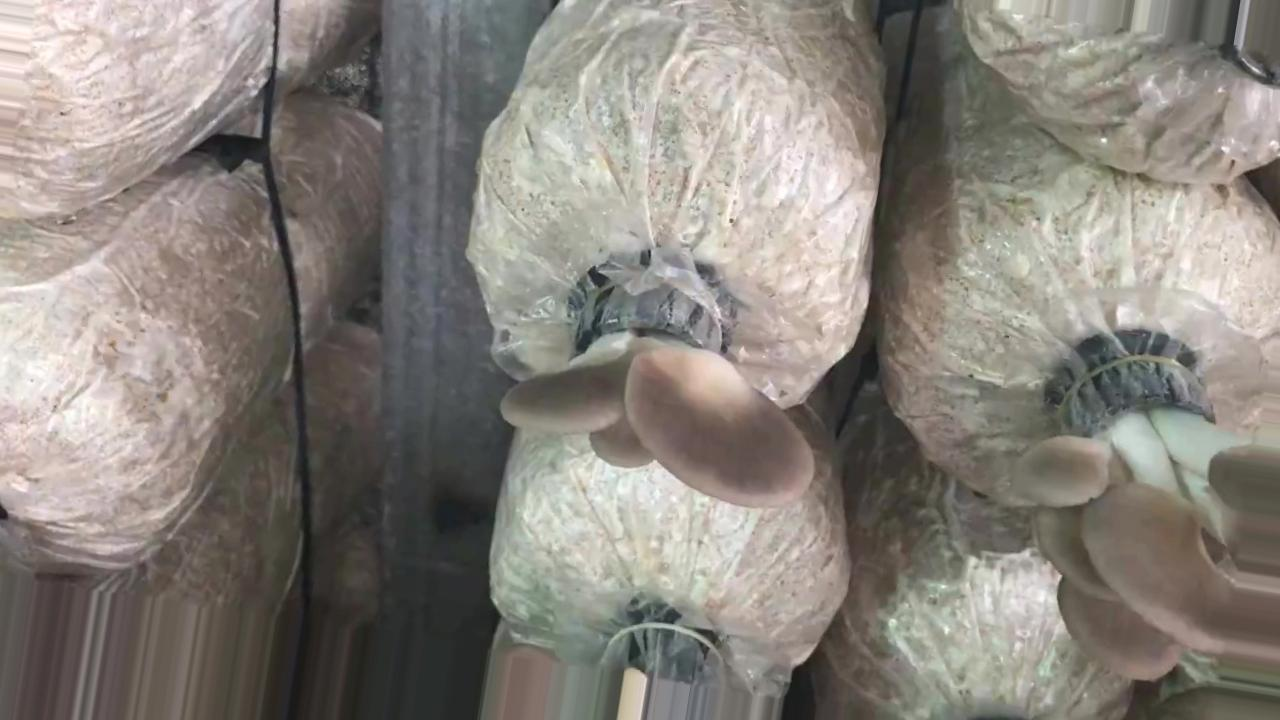nam: (1013, 330, 1280, 686), (498, 249, 817, 512)
